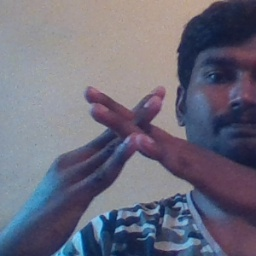W: (71, 71, 191, 195)
